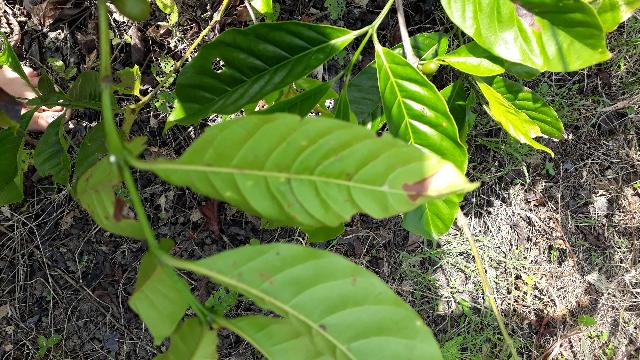red_spider_mite: (160, 134, 485, 246)
